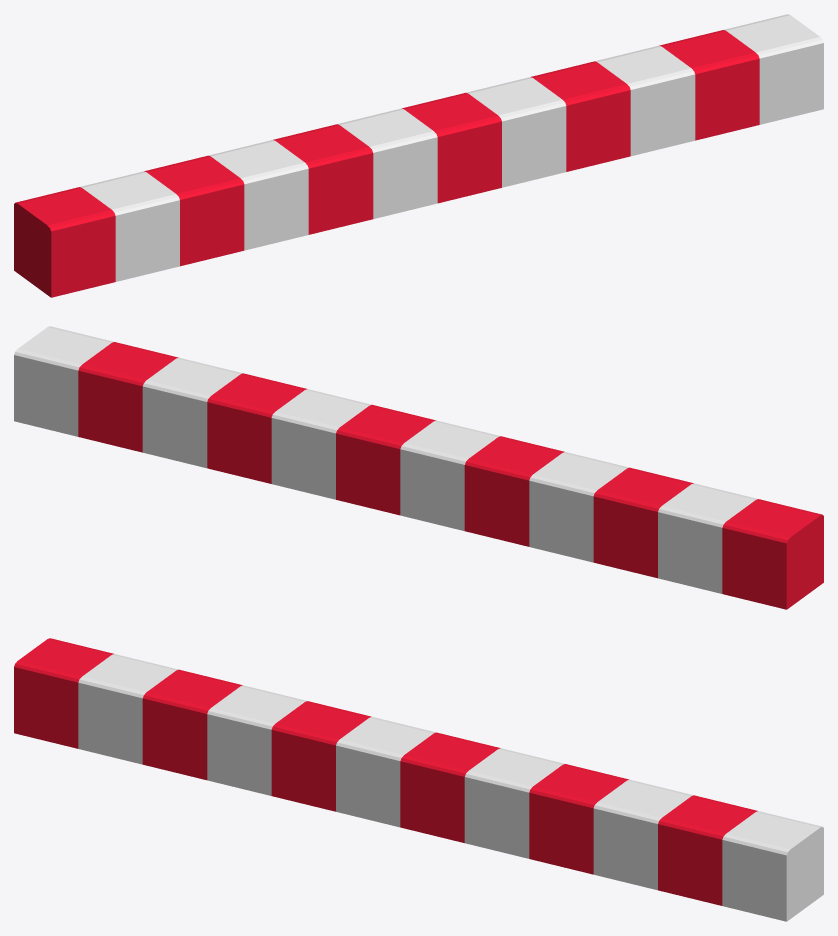
The model's file is Race_Fence.fbx.
3 renders of one model, top to bottom at view 1: azimuth 30°, elevation 25°; view 2: azimuth 150°, elevation 25°; view 3: azimuth 330°, elevation 25°, orthographic.
Parts seen in each view (by area): view 1: Plane; view 2: Plane; view 3: Plane.
Part boxes in pixels (bbox=[...]): Plane: bbox=[14, 14, 823, 297]; Plane: bbox=[14, 326, 823, 609]; Plane: bbox=[14, 638, 823, 921].
Bounding box in the file's own units: 12 × 1.03 × 1.
